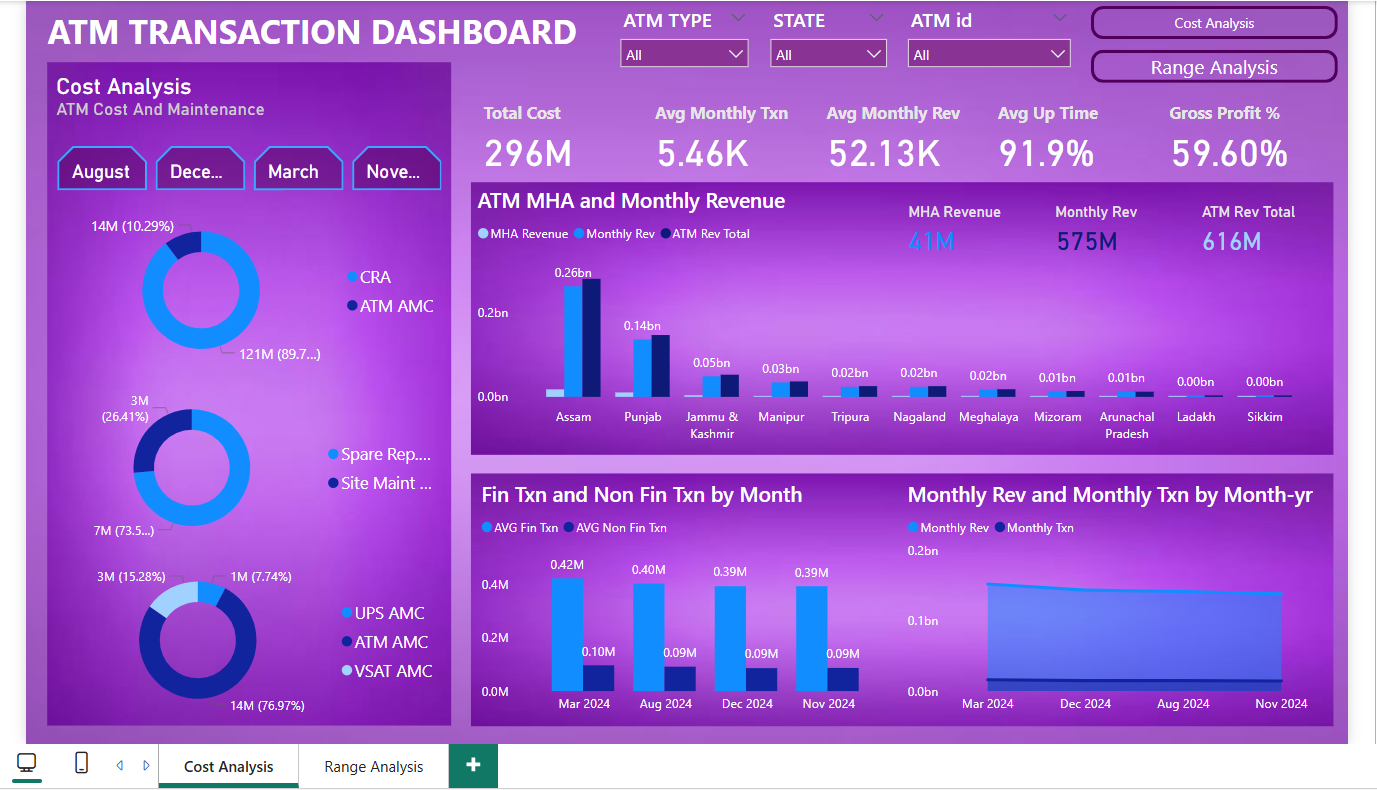

The page's visual inventory and layout, read from the dashboard file:
{"tool":"powerbi","page":{"name":"Cost Analysis","canvas":[1280,720],"ordinal":0},"visuals":[{"type":"slicer","fields":{"Values":["ATM_Transaction_Data.ATM TYPE"]},"box":[565.4,0,144.6,79.5],"z":0,"group":"g1"},{"type":"image","box":[15.7,54.5,400.7,652.5],"z":0},{"type":"slicer","fields":{"Values":["ATM_Transaction_Data.STATE"]},"box":[710,0,133,79.5],"z":1000},{"type":"donutChart","fields":{"Y":["Sum(ATM_Transaction_Data.CRA)","Sum(ATM_Transaction_Data.ATM AMC)"]},"box":[25.4,200.9,383.7,158.6],"z":2000},{"type":"donutChart","fields":{"Y":["Sum(ATM_Transaction_Data.Spare Rep.(UPS))","Sum(ATM_Transaction_Data.Site Maint (Non Asset))"]},"box":[25.4,372.8,383.7,158.6],"z":3000},{"type":"donutChart","fields":{"Y":["Sum(ATM_Transaction_Data.UPS AMC)","Sum(ATM_Transaction_Data.ATM AMC)","Sum(ATM_Transaction_Data.VSAT AMC)"]},"box":[24.2,539.9,383.7,158.6],"z":4000},{"type":"image","box":[426.1,452.7,844.9,254.2],"z":5000},{"type":"image","box":[426.1,170.7,844.9,273.6],"z":6000},{"type":"clusteredColumnChart","title":"ATM MHA and Monthly Revenue","fields":{"Y":["Sum(ATM_Transaction_Data.MHA Revenue)","Sum(ATM_Transaction_Data.Monthly Rev)","Sum(ATM_Transaction_Data.ATM Rev Total)"],"Category":["ATM_Transaction_Data.STATE"]},"box":[432.1,179.2,826.8,255.4],"z":7000},{"type":"clusteredColumnChart","title":"Fin Txn and Non Fin Txn by Month","fields":{"Y":["Sum(ATM_Transaction_Data.AVG Fin Txn)","Sum(ATM_Transaction_Data.AVG Non Fin Txn)"],"Category":["ATM_Transaction_Data.Month & Year"]},"box":[435.8,463.6,410,234.8],"z":8000},{"type":"areaChart","title":"Monthly Rev and Monthly Txn by Month-yr","fields":{"Category":["ATM_Transaction_Data.Month & Year"],"Y":["Sum(ATM_Transaction_Data.Monthly Rev)","Sum(ATM_Transaction_Data.Monthly Txn)"]},"box":[848.6,463.6,410.4,234.8],"z":9000},{"type":"advancedSlicerVisual","fields":{"Values":["ATM_Transaction_Data.Month"]},"box":[25.4,135.6,383.7,53.3],"z":10000},{"type":"textbox","box":[24.2,65.4,383.7,54.5],"z":11000},{"type":"cardVisual","fields":{"Data":["Sum(ATM_Transaction_Data. Total Cost  )","Avg(ATM_Transaction_Data.Monthly Txn)","Avg(ATM_Transaction_Data.Monthly Rev)","Avg(ATM_Transaction_Data.Up Time)","ATM_Transaction_Data.Gross Profit Percentage"]},"box":[426.1,79.9,832.8,90.8],"z":12000},{"type":"cardVisual","fields":{"Data":["Sum(ATM_Transaction_Data.MHA Revenue)","Sum(ATM_Transaction_Data.Monthly Rev)","Sum(ATM_Transaction_Data.ATM Rev Total)"]},"box":[837.7,179.2,429.7,67.8],"z":13000},{"type":"pageNavigator","box":[1031.3,4.8,239.7,75.1],"z":14000},{"type":"textbox","box":[15.7,2.4,539.9,52.1],"z":15000},{"type":"group","id":"g1","title":"SLICERS","box":[565.4,0,144.6,79.5],"z":16000},{"type":"slicer","fields":{"Values":["ATM_Transaction_Data.ATM id"]},"box":[843.7,0,177.9,79.9],"z":17000}]}

Visuals, with their boxes on the page's 1280x720 design canvas (x1, y1, x2, y2). These are canvas units, not pixel positions in the 1377x790 screenshot, which may show the page scaled, cropped or inside an application window:
slicer - ATM_Transaction_Data.ATM TYPE: (565, 0, 710, 80)
image: (16, 54, 416, 707)
slicer - ATM_Transaction_Data.STATE: (710, 0, 843, 80)
donutChart - Sum(ATM_Transaction_Data.CRA) x Sum(ATM_Transaction_Data.ATM AMC): (25, 201, 409, 360)
donutChart - Sum(ATM_Transaction_Data.Spare Rep.(UPS)) x Sum(ATM_Transaction_Data.Site Maint (Non Asset)): (25, 373, 409, 531)
donutChart - Sum(ATM_Transaction_Data.UPS AMC) x Sum(ATM_Transaction_Data.ATM AMC): (24, 540, 408, 698)
image: (426, 453, 1271, 707)
image: (426, 171, 1271, 444)
"ATM MHA and Monthly Revenue" clusteredColumnChart: (432, 179, 1259, 435)
"Fin Txn and Non Fin Txn by Month" clusteredColumnChart: (436, 464, 846, 698)
"Monthly Rev and Monthly Txn by Month-yr" areaChart: (849, 464, 1259, 698)
advancedSlicerVisual - ATM_Transaction_Data.Month: (25, 136, 409, 189)
textbox: (24, 65, 408, 120)
cardVisual - Sum(ATM_Transaction_Data. Total Cost  ) x Avg(ATM_Transaction_Data.Monthly Txn): (426, 80, 1259, 171)
cardVisual - Sum(ATM_Transaction_Data.MHA Revenue) x Sum(ATM_Transaction_Data.Monthly Rev): (838, 179, 1267, 247)
pageNavigator: (1031, 5, 1271, 80)
textbox: (16, 2, 556, 54)
"SLICERS" group: (565, 0, 710, 80)
slicer - ATM_Transaction_Data.ATM id: (844, 0, 1022, 80)
